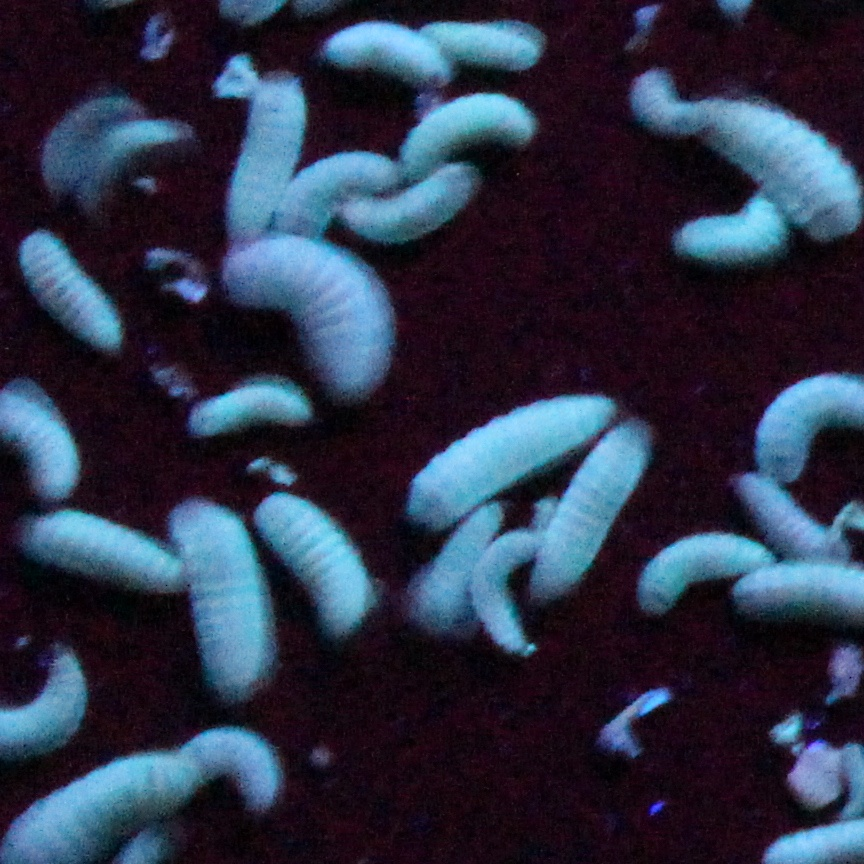larve: (645, 78, 855, 225), (414, 385, 612, 521), (226, 243, 391, 396), (535, 428, 659, 602), (177, 505, 275, 701), (259, 495, 365, 630), (223, 73, 303, 232), (21, 231, 122, 355), (24, 515, 177, 590), (80, 123, 190, 209), (645, 533, 761, 614), (404, 92, 535, 163), (1, 379, 80, 496), (415, 506, 500, 614), (352, 173, 492, 237), (476, 532, 543, 659), (280, 151, 385, 229), (741, 475, 838, 555), (188, 728, 280, 811), (679, 204, 784, 272), (325, 27, 446, 84), (194, 382, 305, 438), (439, 19, 540, 68)
